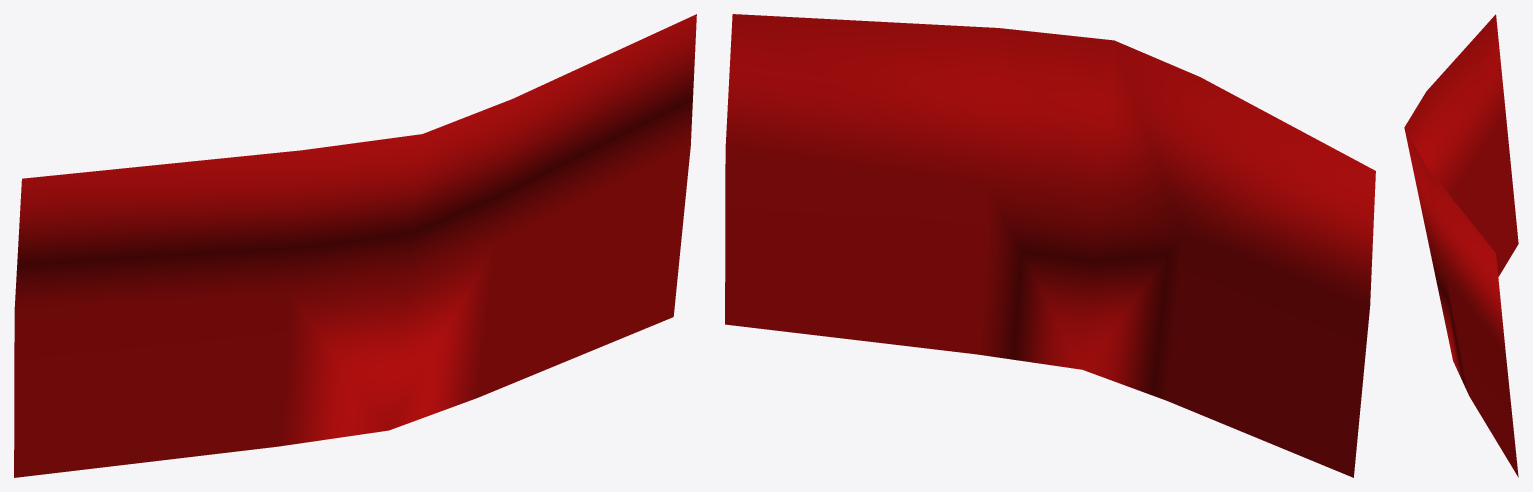
The model's file is viserarobot.fbx.
The picture shows the model from 3 angles, left to right: view 1: azimuth 30°, elevation 25°; view 2: azimuth 150°, elevation 25°; view 3: azimuth 270°, elevation 25°; orthographic projection. The views are drawn at different scales.
Visible parts, largest first — view 1: polySurface12; view 2: polySurface12; view 3: polySurface12.
Part boxes in pixels (left/top/right/bottom): polySurface12: left=14, top=14, right=696, bottom=477; polySurface12: left=725, top=14, right=1375, bottom=477; polySurface12: left=1404, top=14, right=1518, bottom=477.
Bounding box in the file's own units: 0.1307 × 0.0593 × 0.0263.
